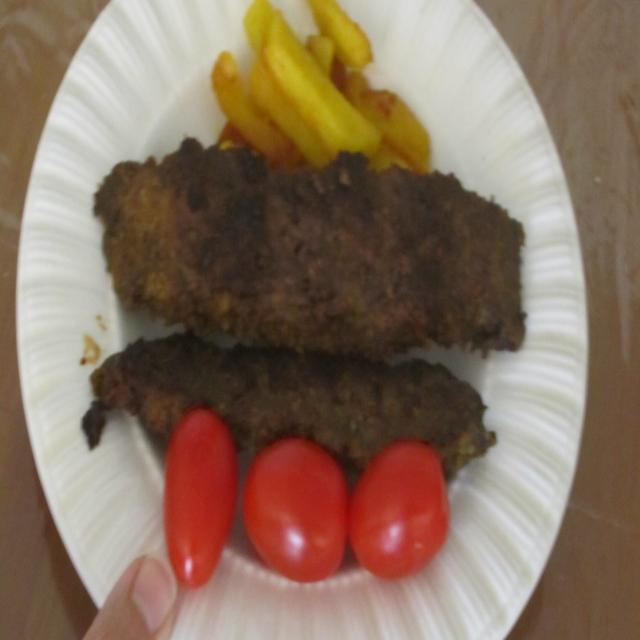cutlet: (43, 152, 512, 436)
potato: (195, 0, 417, 141)
tomato: (150, 444, 459, 590)
